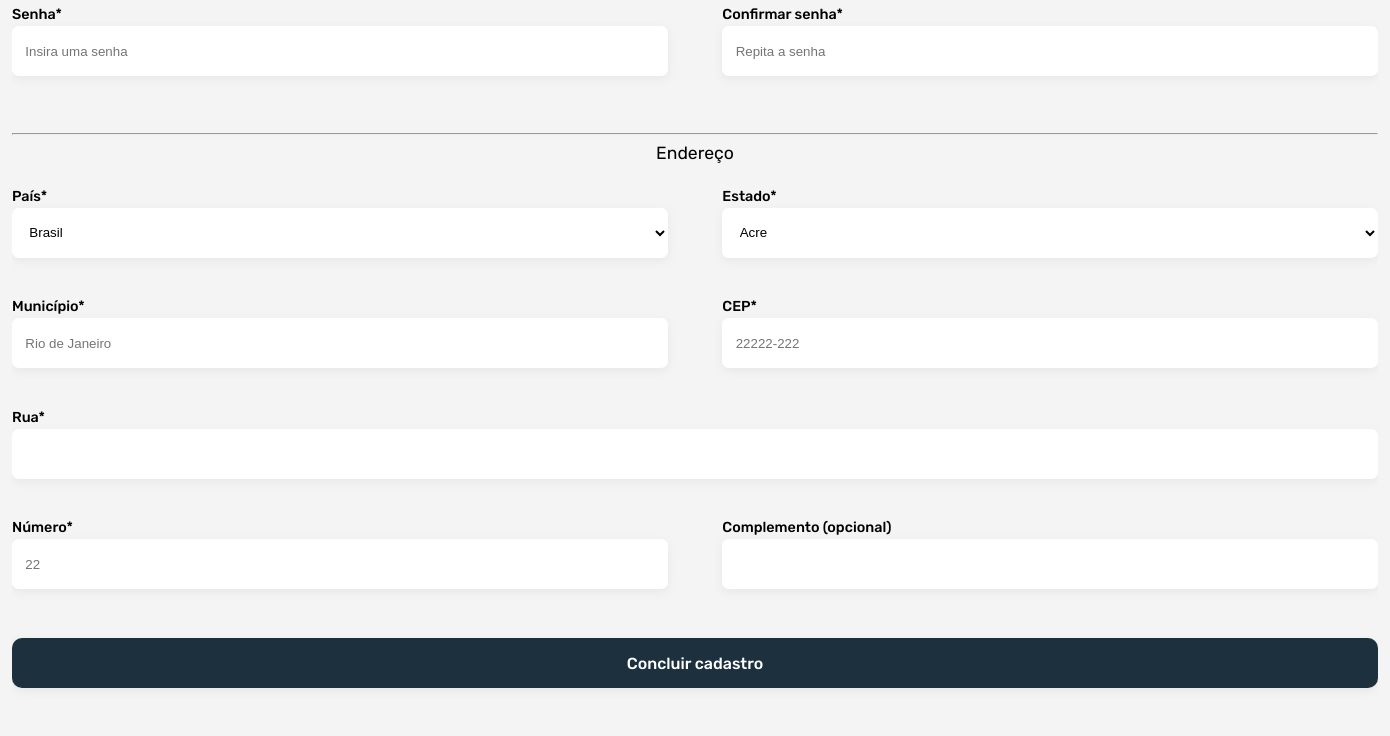
Test: Register form › submit flow › form shows error if requires values are left empty
(page scrolled)
Click the button "Concluir cadastro" at (695,663), box [12,638,1378,688]
(page scrolled)
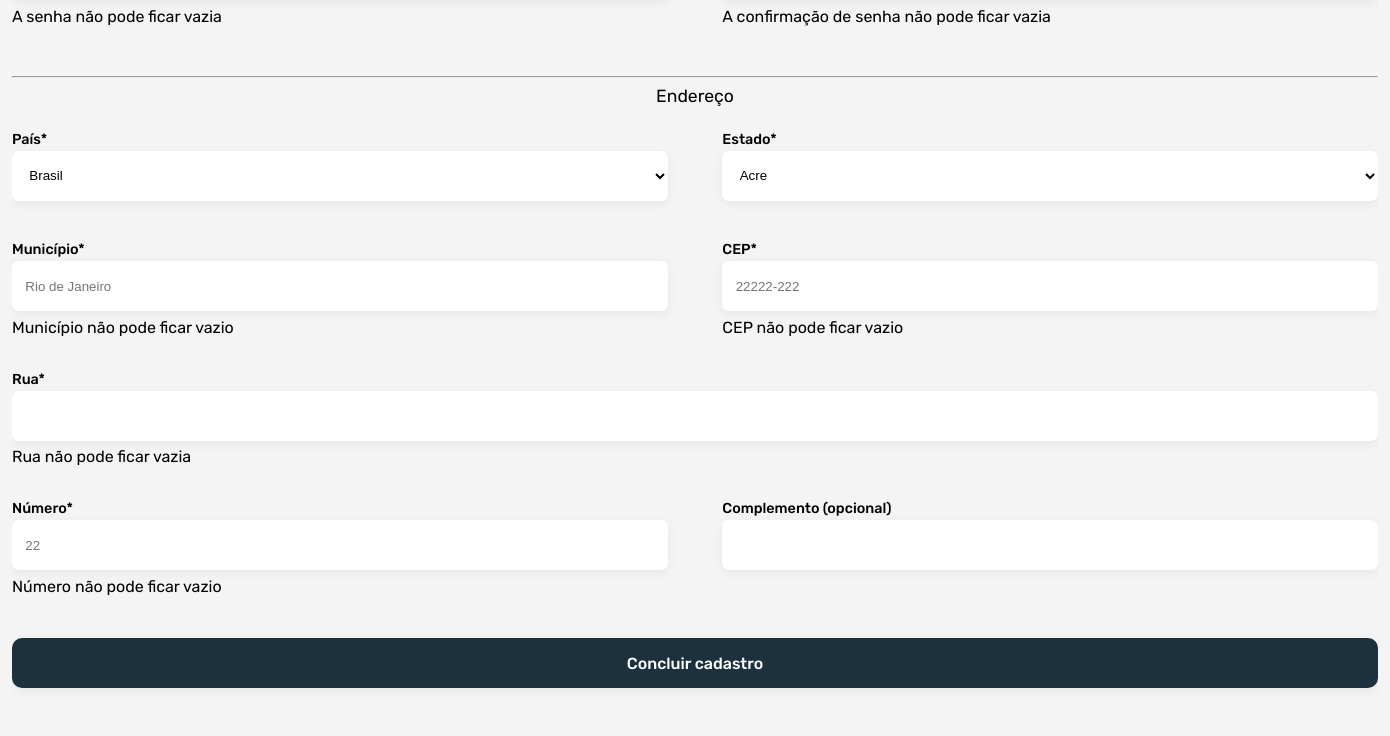
Expected: the text "A senha não pode ficar vazia" is shown, [12,7,222,26]
Expected: the text "A confirmação de senha não pode ficar vazia" is shown, [722,7,1051,26]
Expected: the text "Município não pode ficar vazio" is shown, [12,318,234,337]
